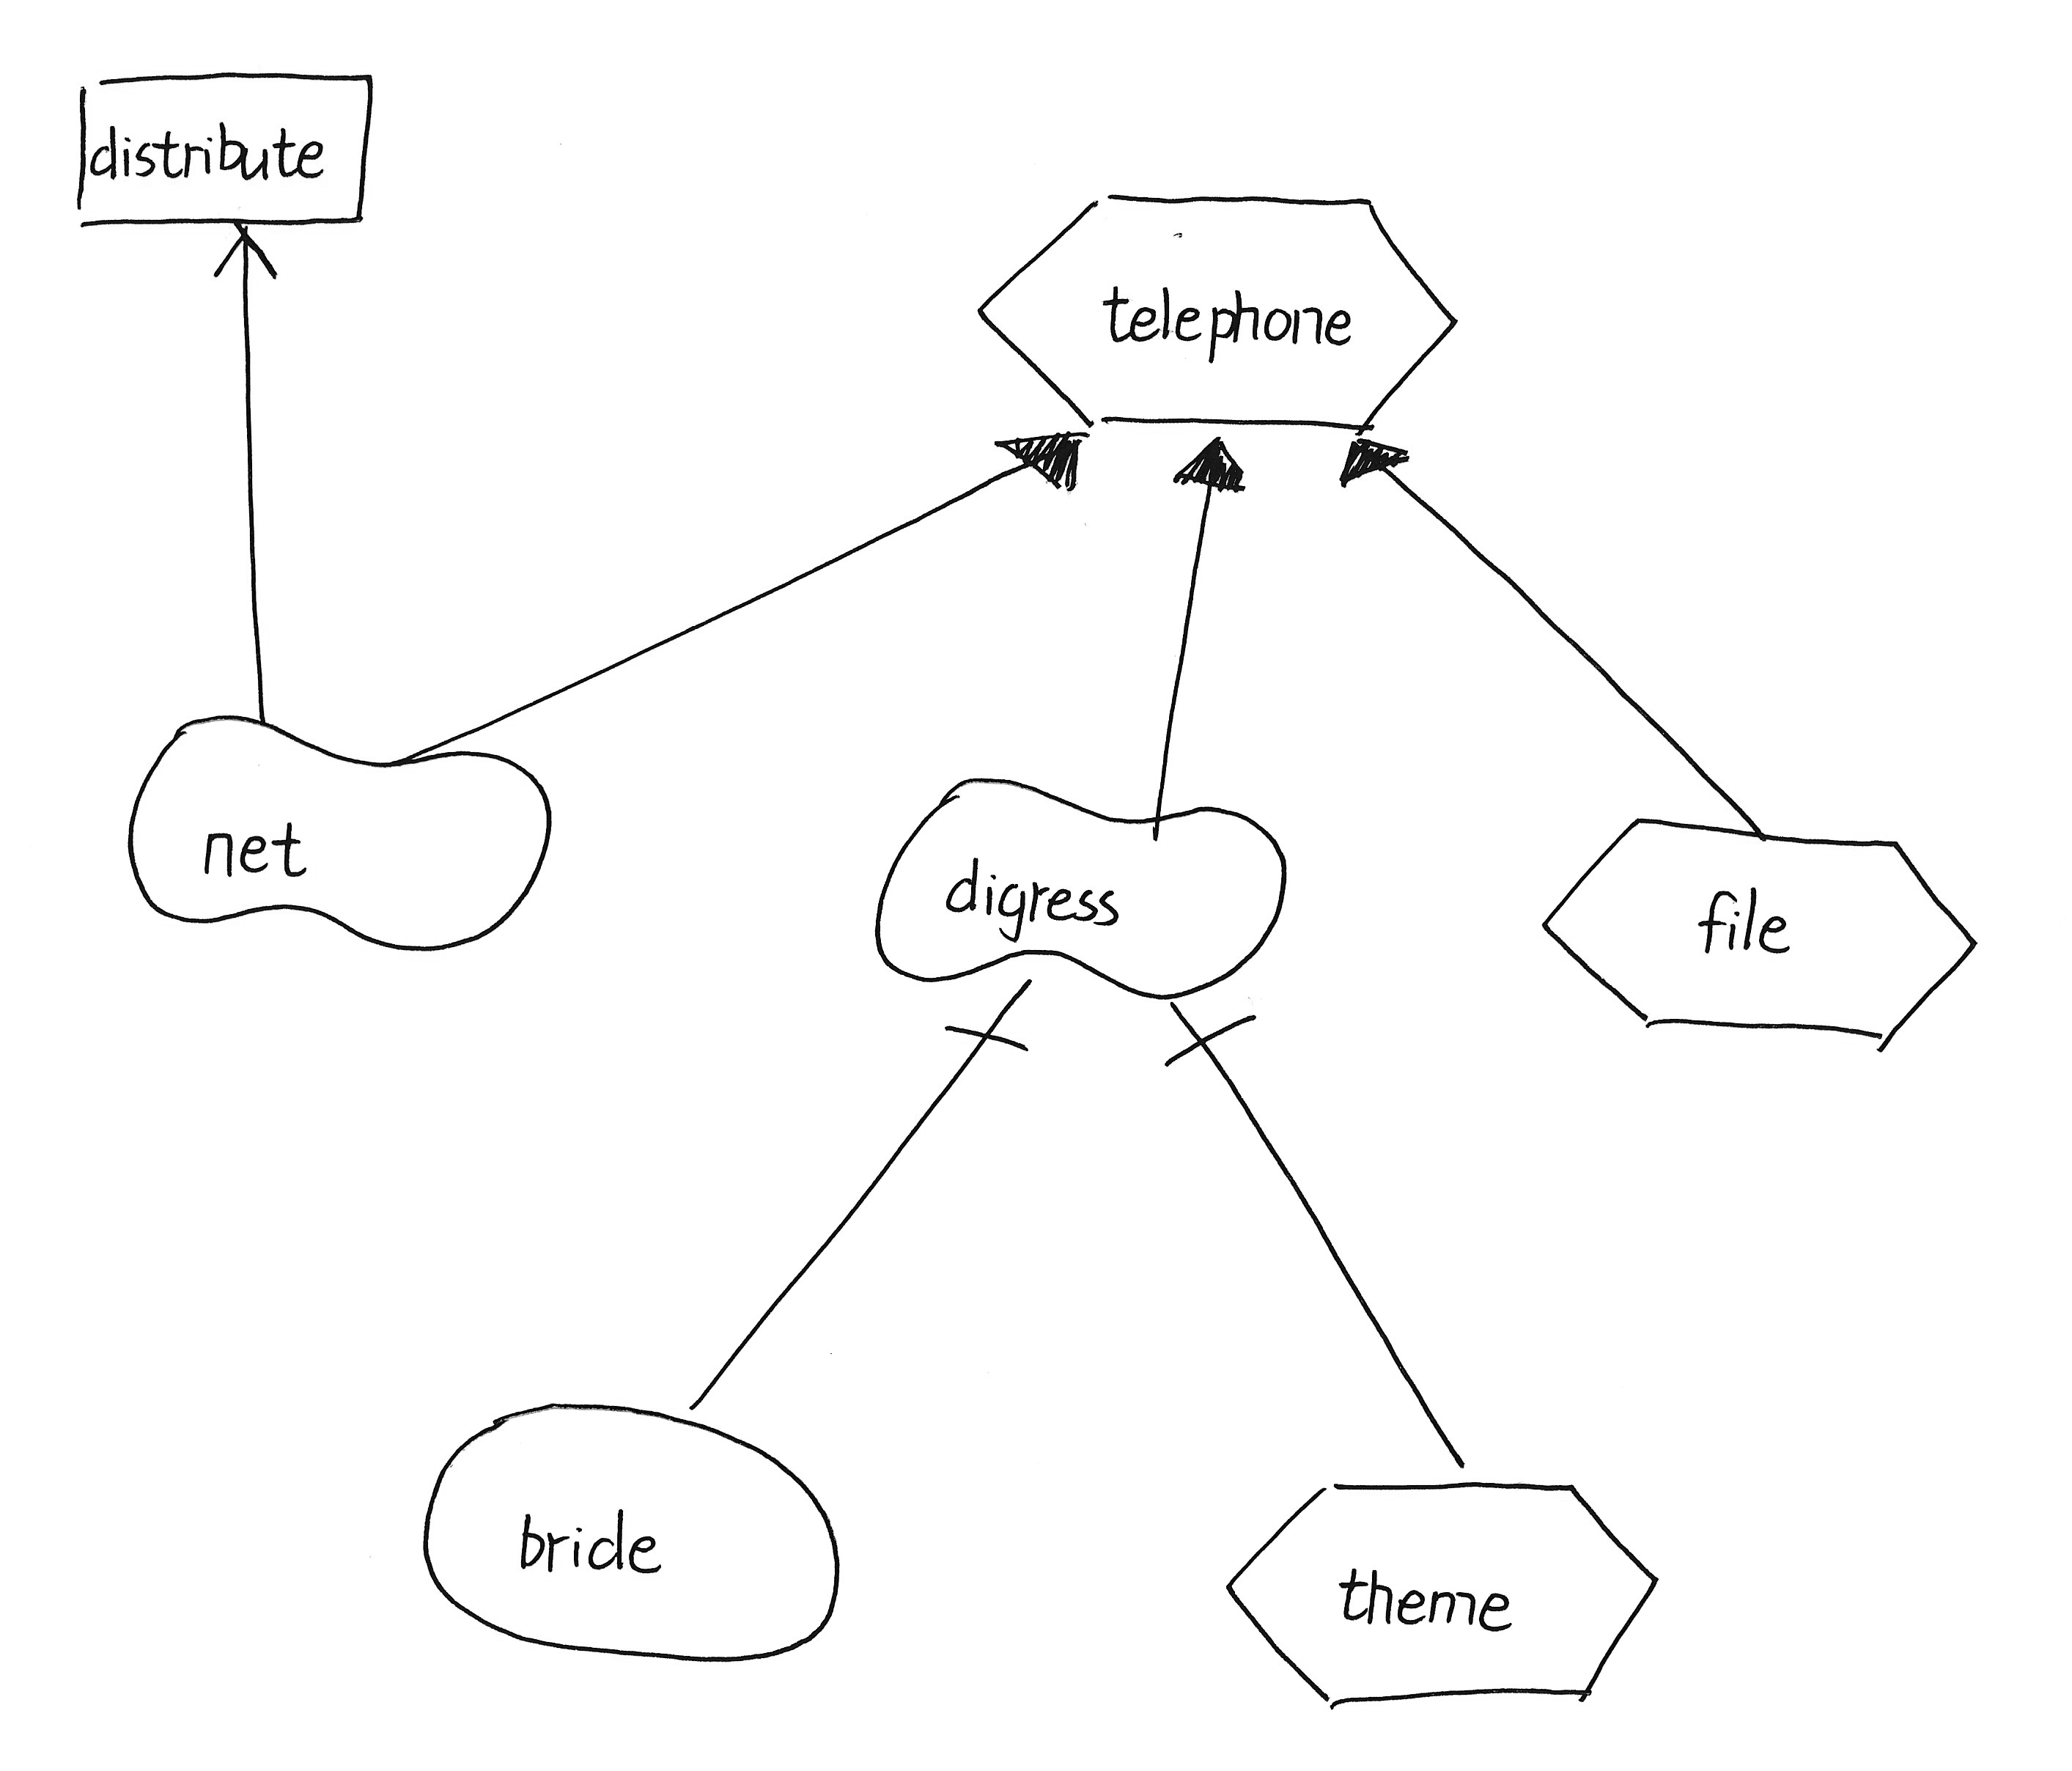and: (932, 984, 1054, 1084), (1138, 1005, 1277, 1086)
arrow: (197, 216, 293, 288)
goal: (402, 1383, 855, 1678)
or: (983, 422, 1099, 510), (1157, 422, 1261, 515), (1324, 423, 1429, 502)
quality: (118, 696, 562, 966), (855, 761, 1301, 1008)
resource: (58, 51, 390, 246)
task: (959, 176, 1478, 443), (1208, 1462, 1677, 1732), (1529, 801, 2002, 1066)
